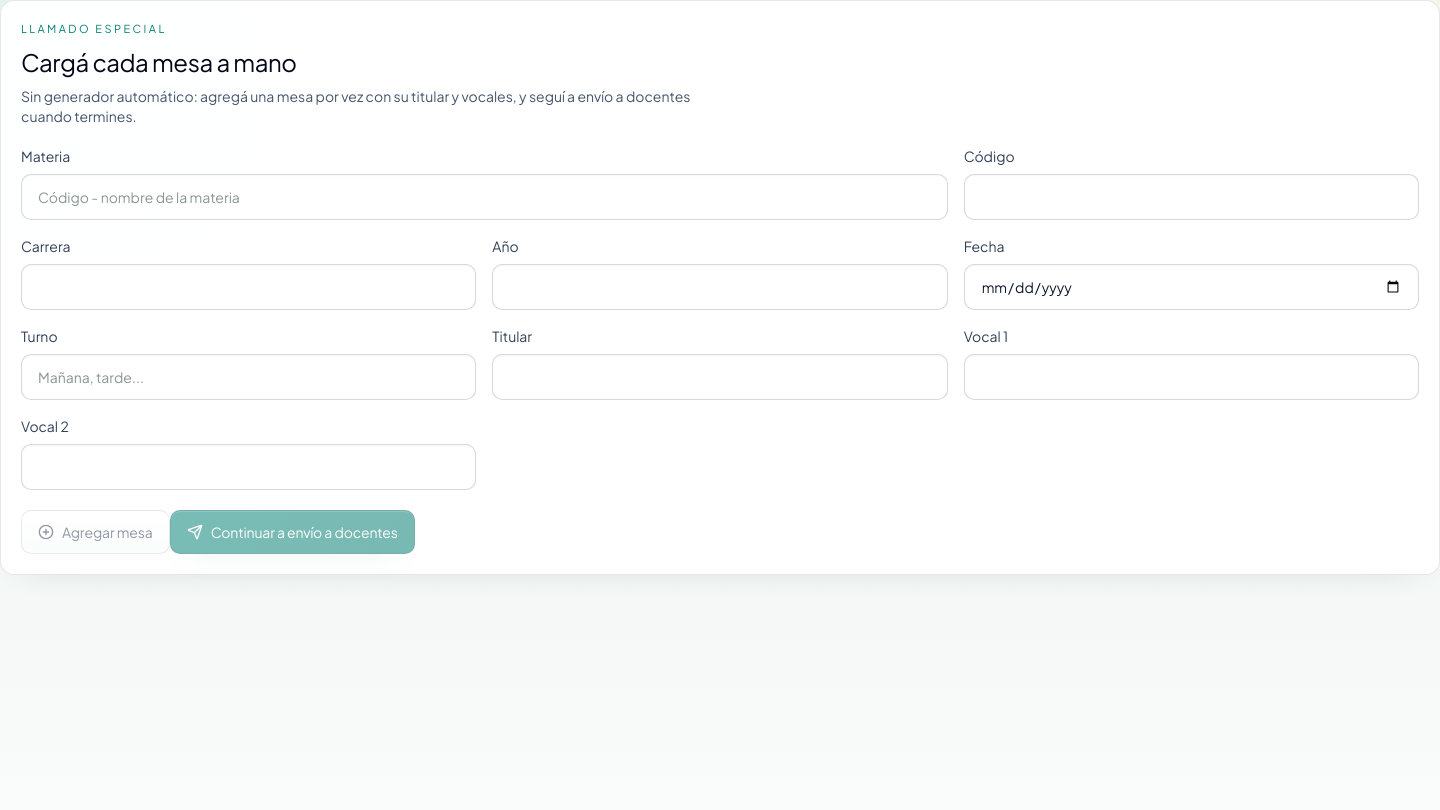
Test case: ManualMesaBuilderForm › seleccionar una materia del catalogo prellena carrera y anio, y agregar la suma a la lista
Type "ESP01 - Coloquio Final (Profesorado de Historia, 4° año)" into the field labelled "Materia" at (484,196), box [21, 174, 948, 220]
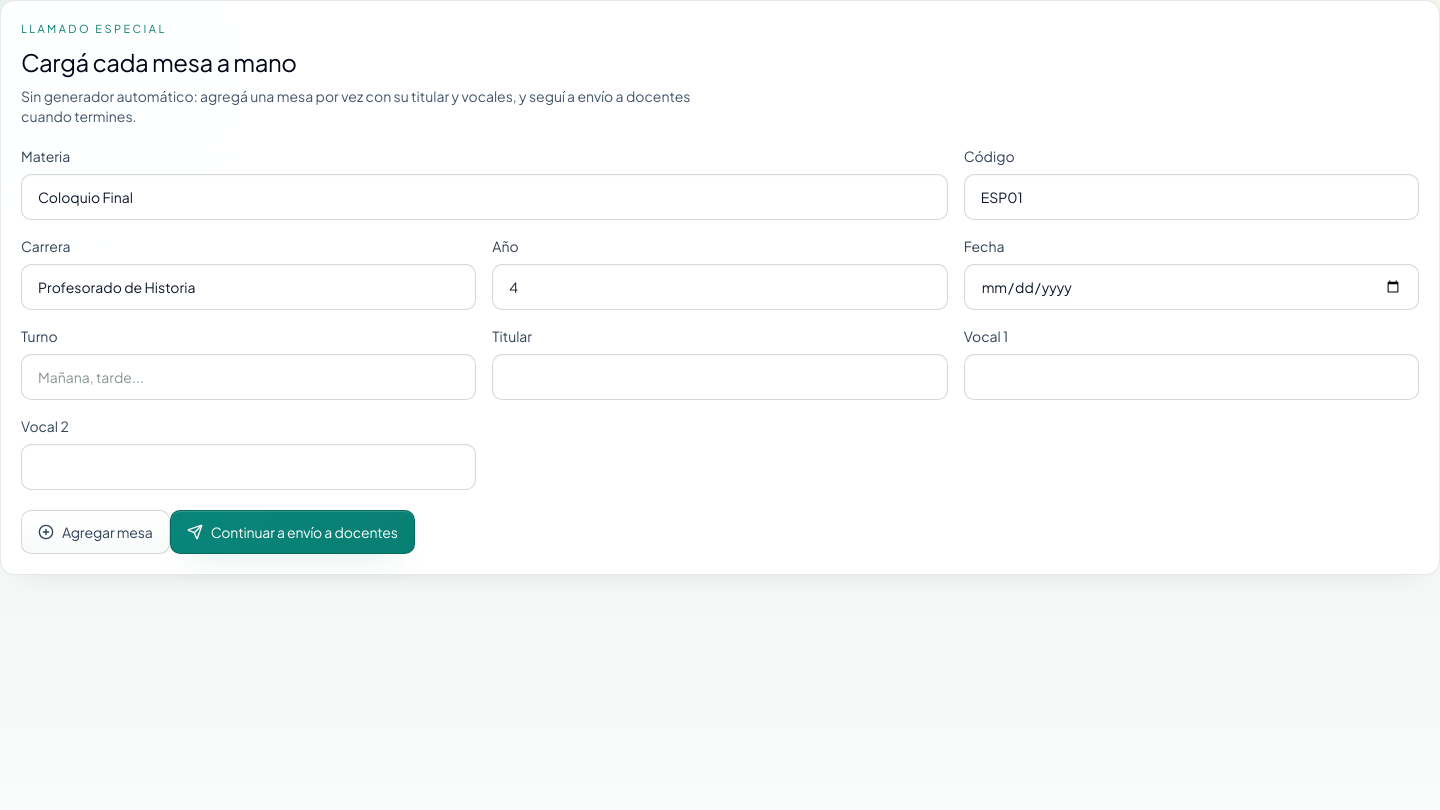
Result: the field labelled "Carrera" holds "Profesorado de Historia" at [21, 264, 476, 310]
Result: the field labelled "Año" holds "4" at [492, 264, 948, 310]
Type "Ana Titular" into the field labelled "Titular" at (720,376), box [492, 354, 948, 400]
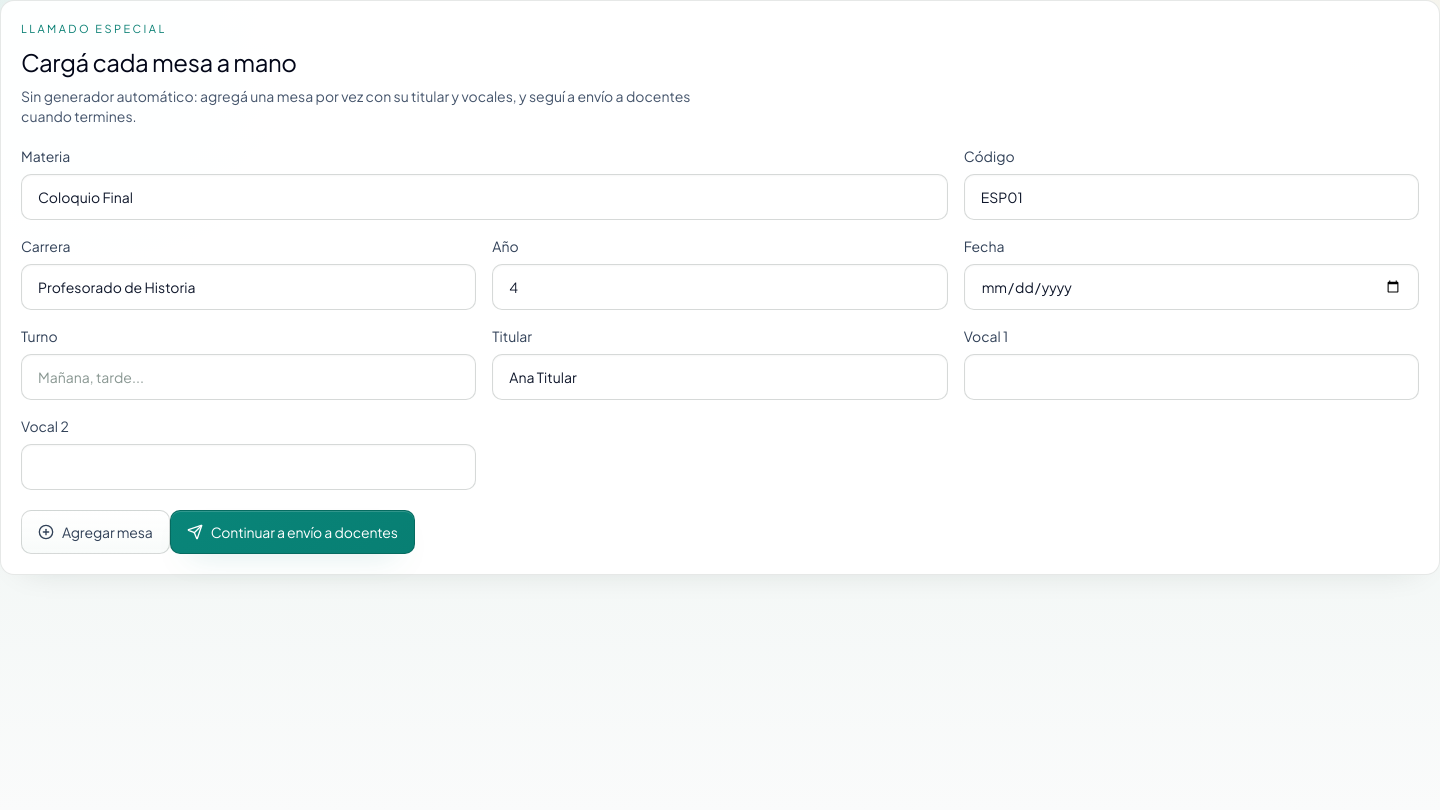
Click the button "Agregar mesa" at (95,532), box [21, 510, 170, 554]
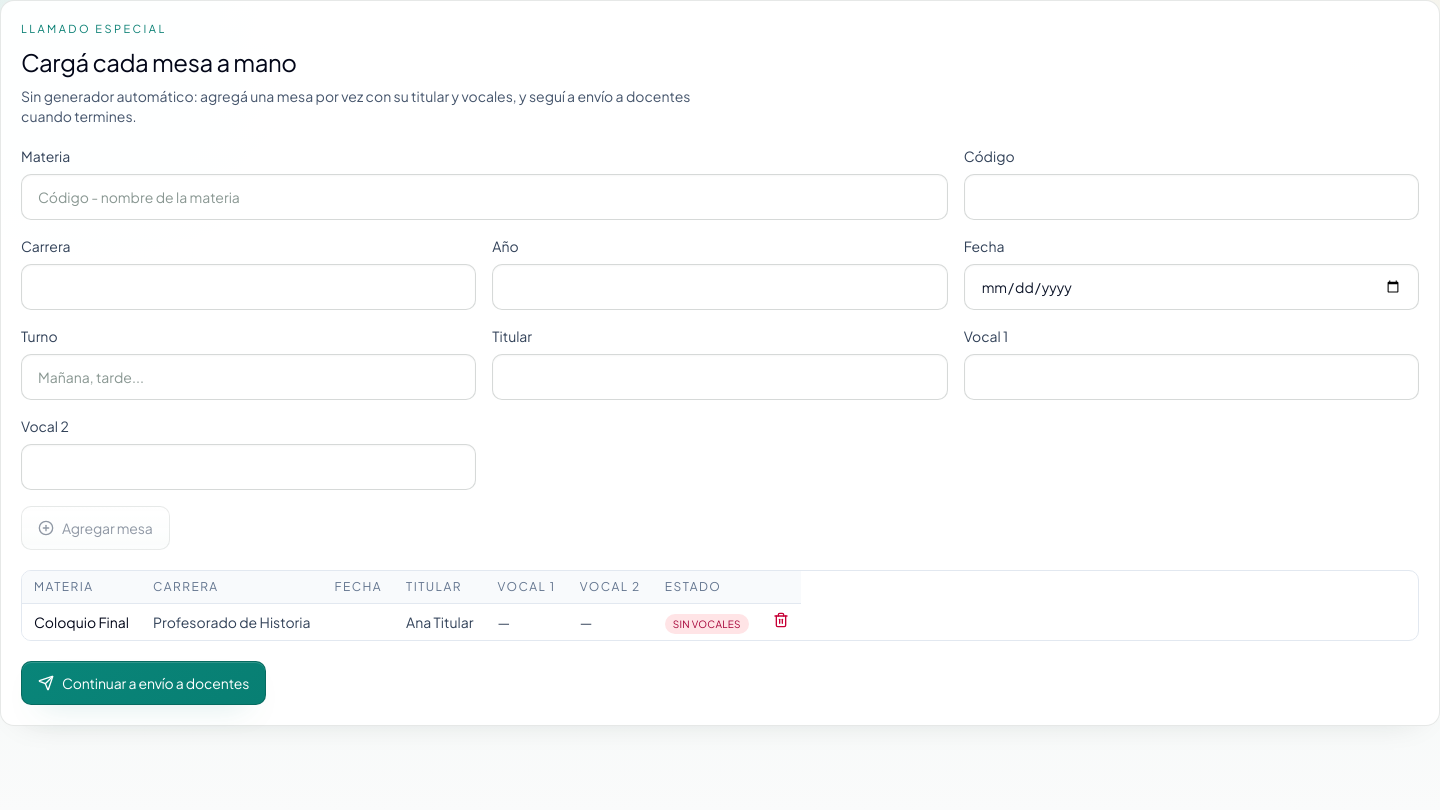
Result: the text "Coloquio Final" is shown at [22, 603, 141, 640]
Result: the text "Ana Titular" is shown at [394, 603, 485, 640]
Result: the text "Sin vocales" is shown at [665, 614, 749, 634]
